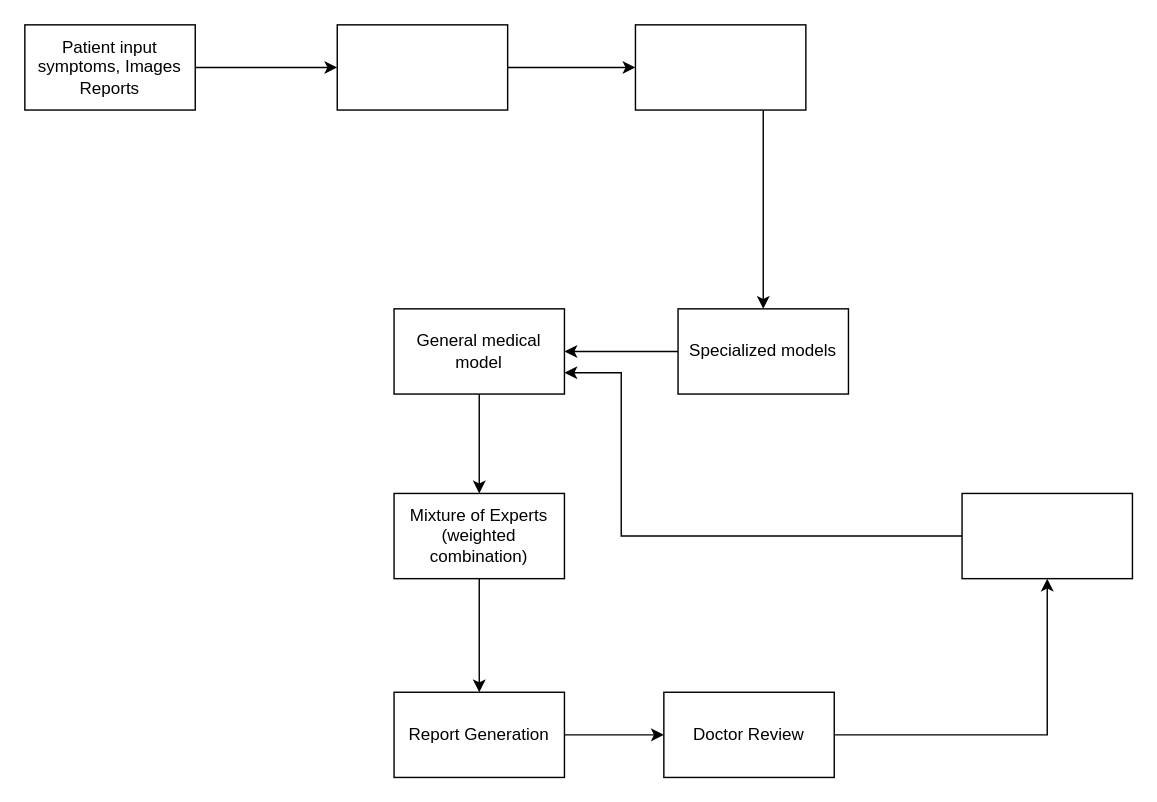
The diagram is 1157 pixels wide and 802 high, and some of its shapes have lost their labels. Each missing label, with the centre of its shape:
"Data preprocessing (feature extraction)" belongs at (x=422, y=66).
"Gating Layer (Model Selection)" belongs at (x=720, y=66).
"RAG" belongs at (x=1046, y=535).
